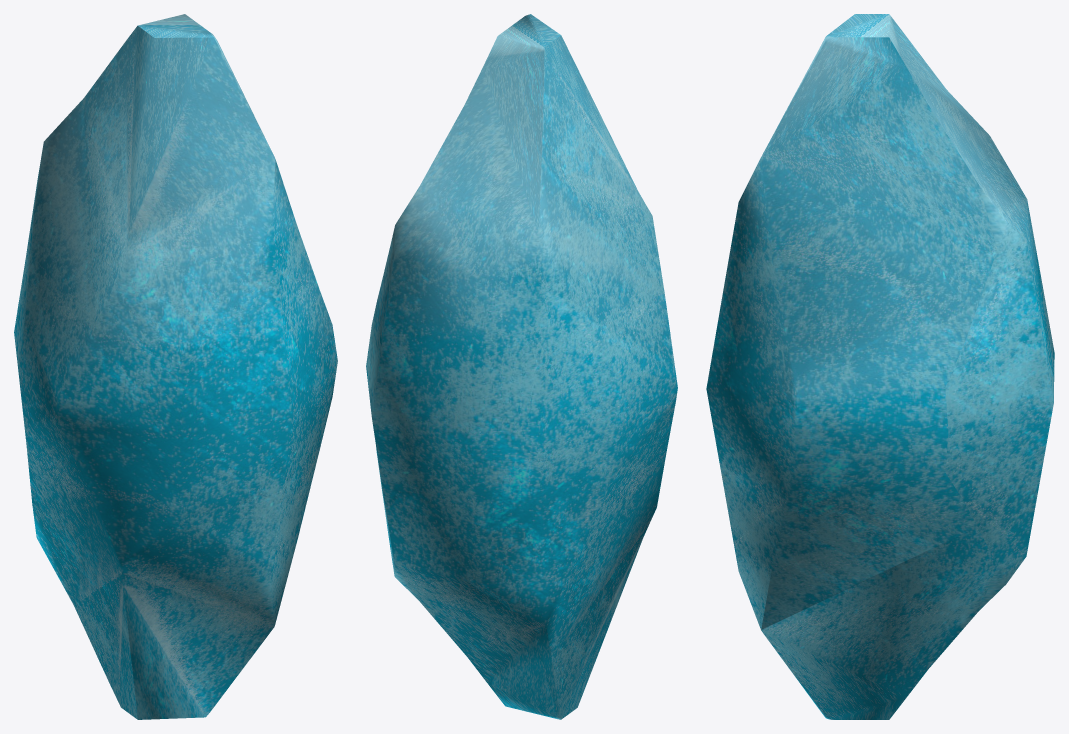
File: crystal.glb
The picture shows the model from 3 angles, left to right: view 1: azimuth 30°, elevation 25°; view 2: azimuth 150°, elevation 25°; view 3: azimuth 270°, elevation 25°; orthographic projection. The views are drawn at different scales.
Size of the model in its own units: 93.95 by 233 by 107.
1 material, 1 textured.
